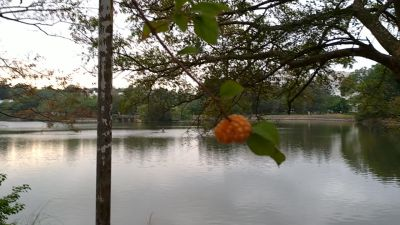eggs: (213, 112, 252, 145)
